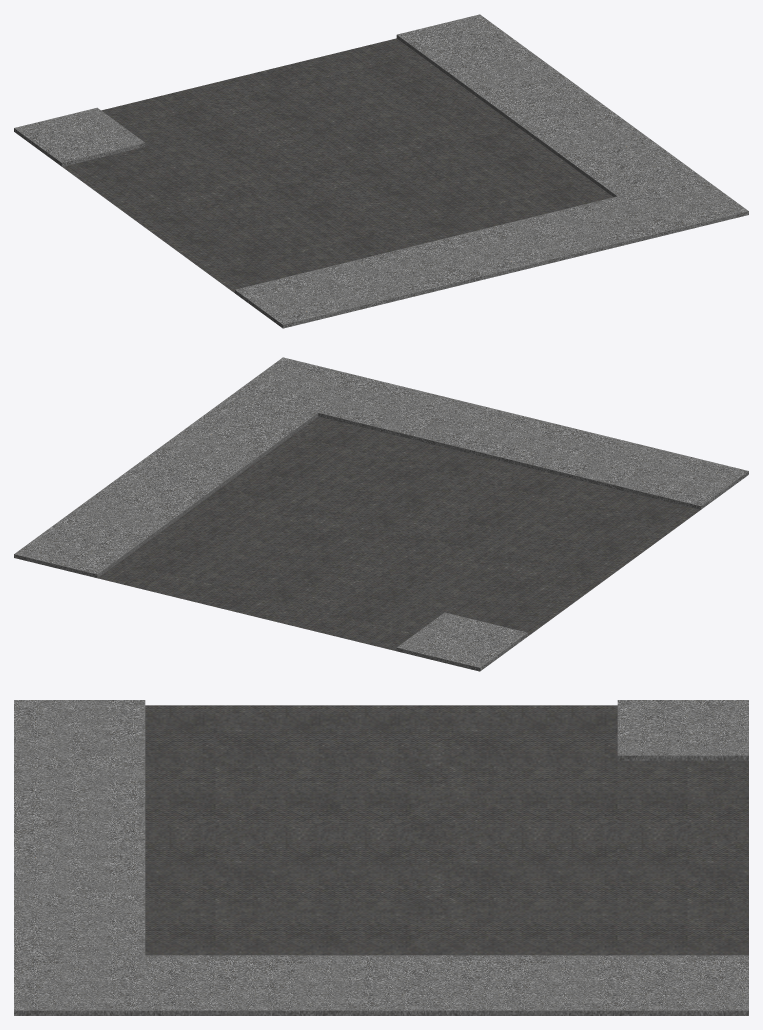
Rendered from Road_Corner.obj.
3 views of the same model, one above another, from view 1: azimuth 30°, elevation 25°; view 2: azimuth 150°, elevation 25°; view 3: azimuth 270°, elevation 25° (orthographic). The views are drawn at different scales.
Visible parts, largest first — view 1: Road_Corner; view 2: Road_Corner; view 3: Road_Corner.
Boxes of the visible parts, box(x1,y1,x2,y2) form: Road_Corner: box(14, 14, 748, 328); Road_Corner: box(14, 357, 748, 671); Road_Corner: box(14, 700, 748, 1015).
Bounding box in the file's own units: 15.57 × 0.1182 × 15.57.
